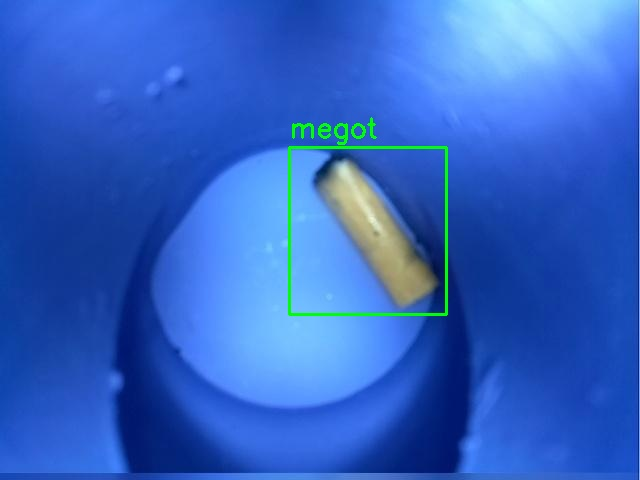megot: (289, 147, 446, 314)
